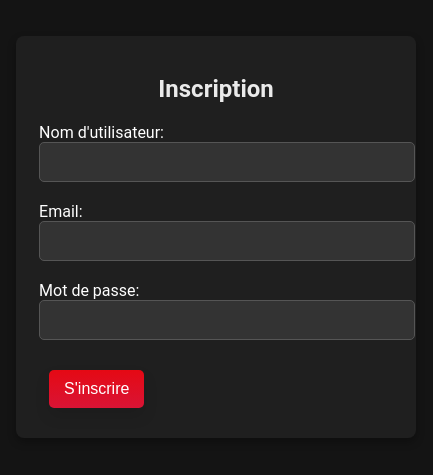
Test case: SignUp Component › displays an error message if signup fails
In the field labelled "Nom d'utilisateur:": (227, 162) 39,142 -> 415,182, type "testUser"
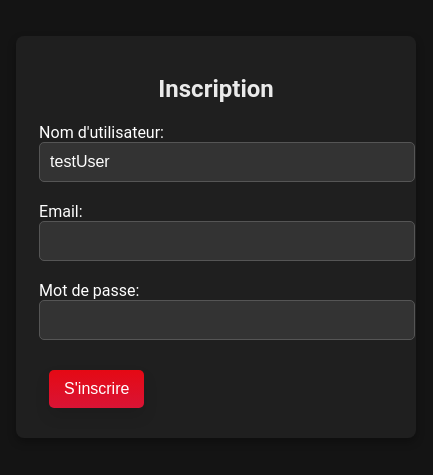
In the field labelled "Email:": (227, 242) 39,222 -> 415,262, type "test@example.com"
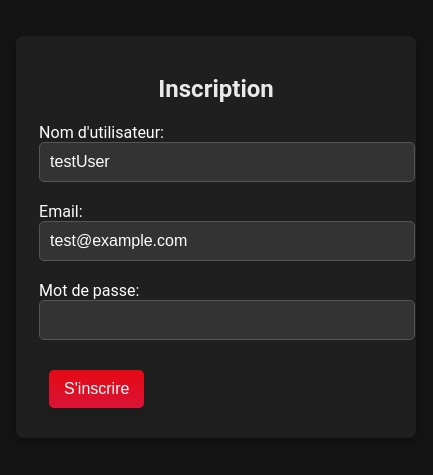
In the password field labelled "Mot de passe:": (227, 320) 39,300 -> 415,340, type "password123"
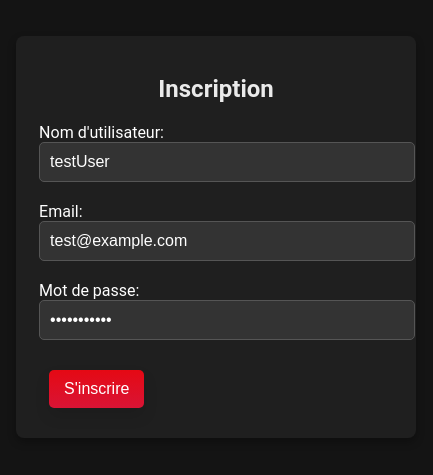
Click the button "S'inscrire": (97, 390) 49,370 -> 144,408
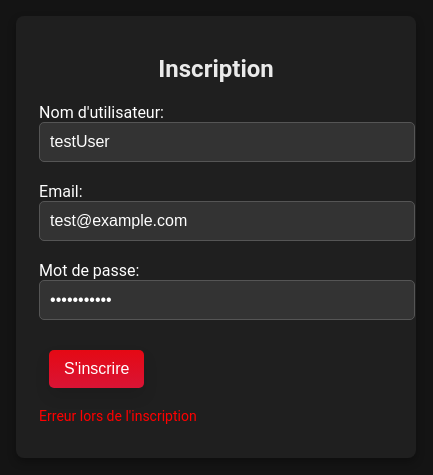
expect the text "Erreur lors de l'inscription" is shown: met, box 39,408 -> 197,424
